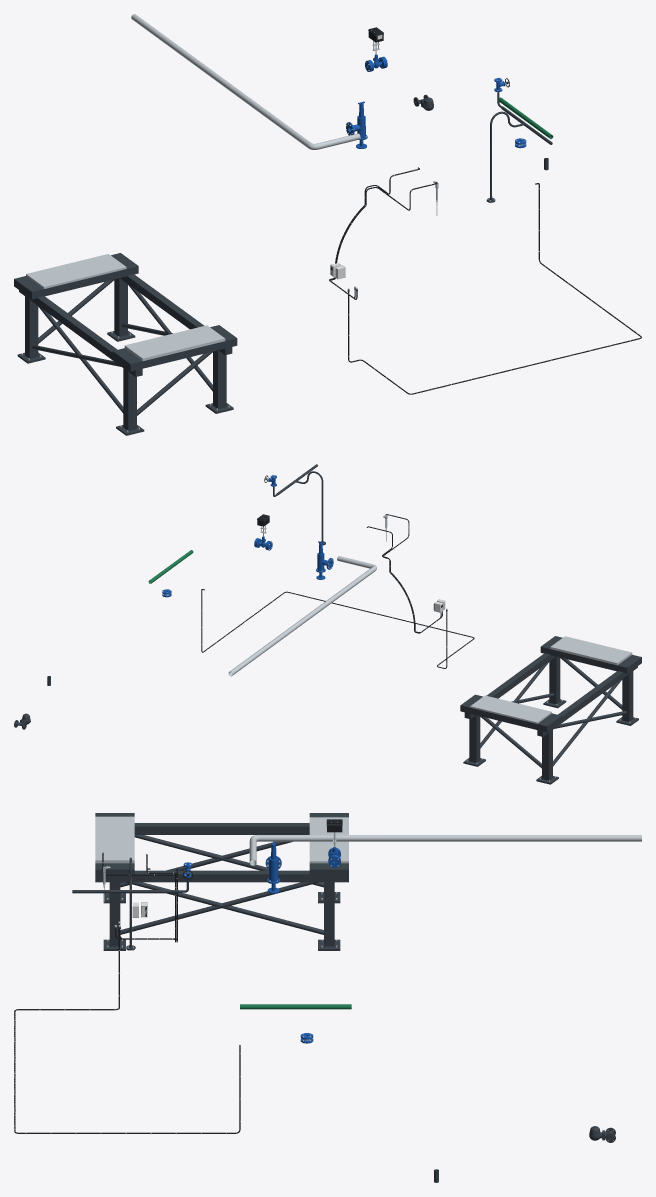
The picture shows the model from 3 angles, top to bottom: view 1: azimuth 30°, elevation 25°; view 2: azimuth 150°, elevation 25°; view 3: azimuth 270°, elevation 25°; orthographic projection. The views are drawn at different scales.
Parts seen in each view (by area): view 1: deaerator_support / dark, deaerator_support / steel, safety_vent_1 / steel, wiring_pump_1 / black; view 2: deaerator_support / dark, deaerator_support / steel, safety_vent_1 / steel, wiring_pump_1 / black, pressure_header / dark; view 3: deaerator_support / dark, deaerator_support / steel, safety_vent_1 / steel, wiring_pump_1 / black, pressure_header / dark, pump_delivery / green.
Boxes of the visible parts, <box> form: deaerator_support / dark: <box>14,253,237,435</box>; deaerator_support / steel: <box>21,254,229,432</box>; safety_vent_1 / steel: <box>131,14,360,149</box>; wiring_pump_1 / black: <box>348,183,641,394</box>; deaerator_support / dark: <box>460,636,641,784</box>; deaerator_support / steel: <box>466,636,635,781</box>; safety_vent_1 / steel: <box>228,556,376,676</box>; wiring_pump_1 / black: <box>201,589,474,668</box>; pressure_header / dark: <box>273,464,325,545</box>; deaerator_support / dark: <box>95,813,348,950</box>; deaerator_support / steel: <box>95,816,348,947</box>; safety_vent_1 / steel: <box>249,835,641,865</box>; wiring_pump_1 / black: <box>14,929,240,1133</box>; pressure_header / dark: <box>72,857,188,950</box>; pump_delivery / green: <box>240,1004,351,1009</box>.
Size of the model in its own units: 8.08 by 3.24 by 7.03.
